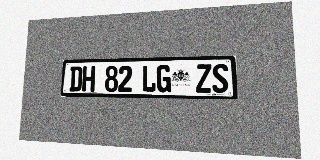2: (118, 65, 132, 92)
8: (104, 66, 118, 92)
D: (69, 66, 82, 91)
G: (156, 65, 171, 92)
H: (82, 66, 95, 92)
L: (142, 65, 156, 92)
S: (212, 64, 229, 93)
Z: (196, 64, 212, 93)
